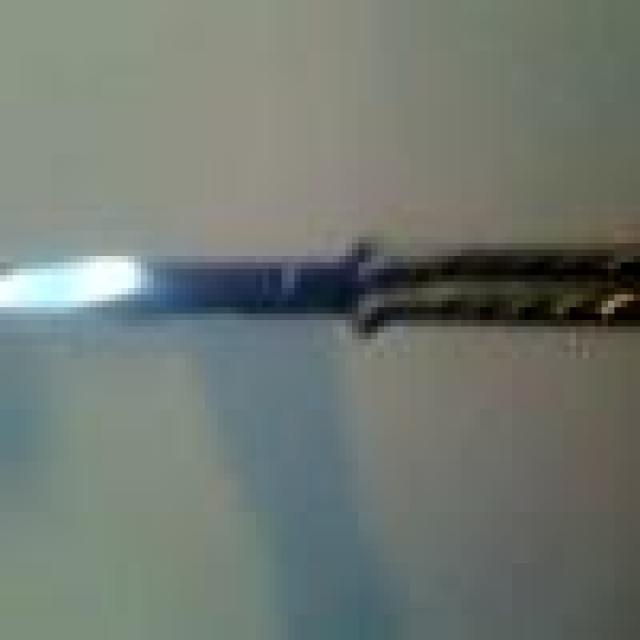knife: (1, 254, 640, 330)
